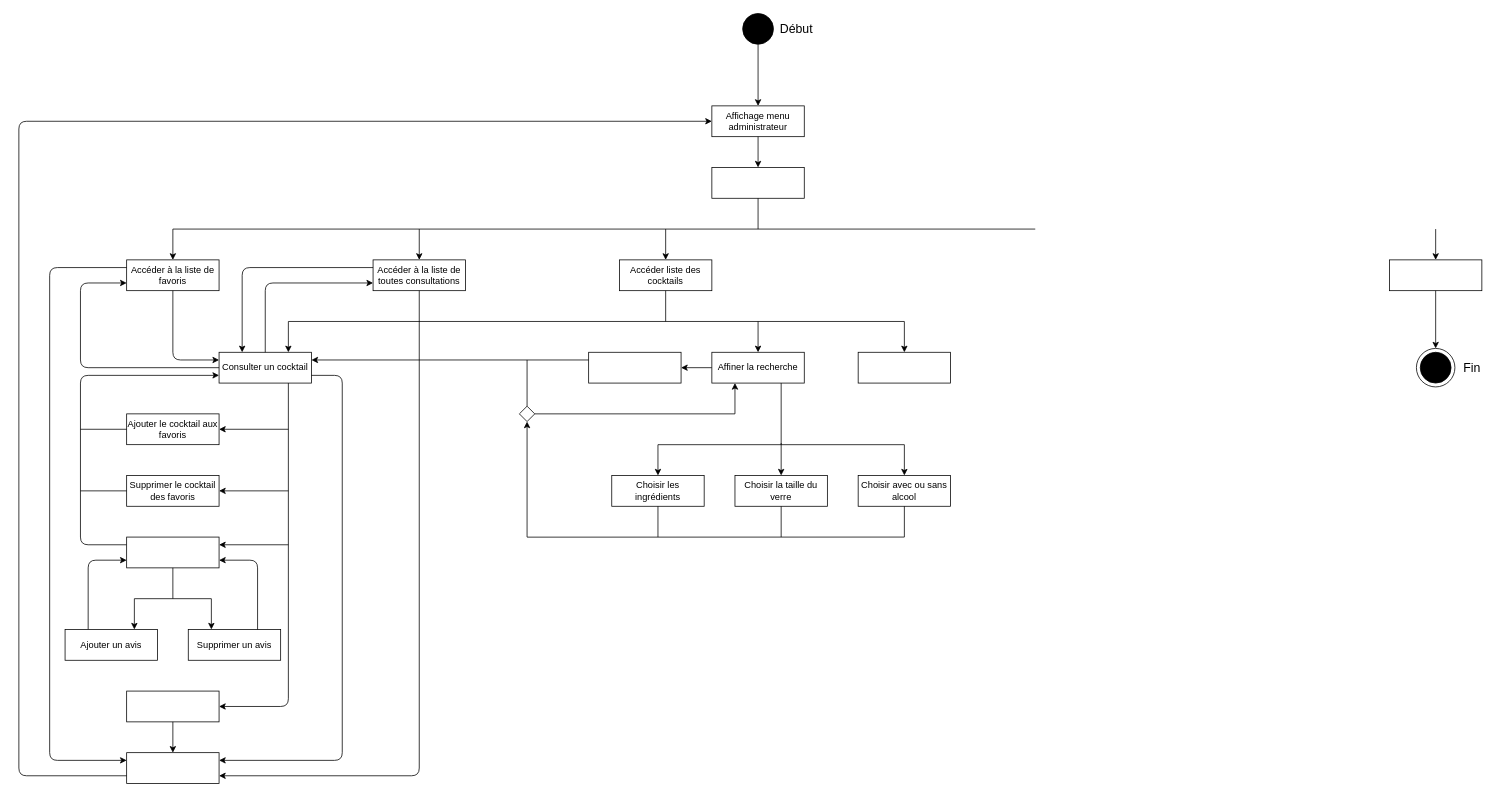
Image size: 1503x797. Some labels were removed from this diagram. Each missing label, with the centre of its shape:
Ajouter un cocktail: pixel 904 367
Choisir le nom: pixel 634 367
Choix d'une option: pixel 757 182
Consulter les avis: pixel 172 552
Menu administrateur: pixel 172 767
Quitter l'application: pixel 1435 275
Supprimer le cocktail: pixel 172 706
